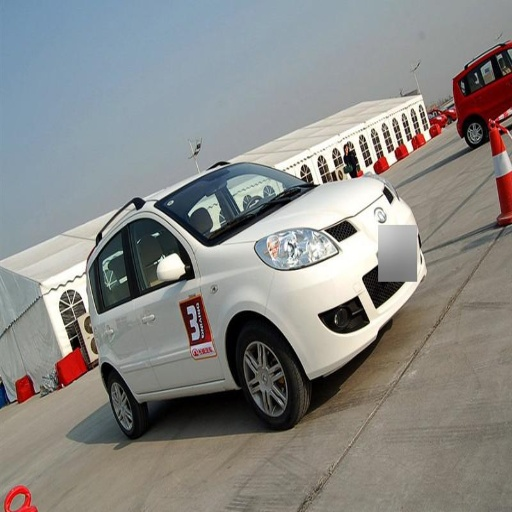back_right_door: (98, 220, 144, 304), (113, 308, 146, 383)
front_left_light: (199, 176, 266, 234)
front_right_door: (133, 219, 178, 291)
front_right_light: (256, 225, 336, 269)
trunk: (145, 312, 222, 393)
